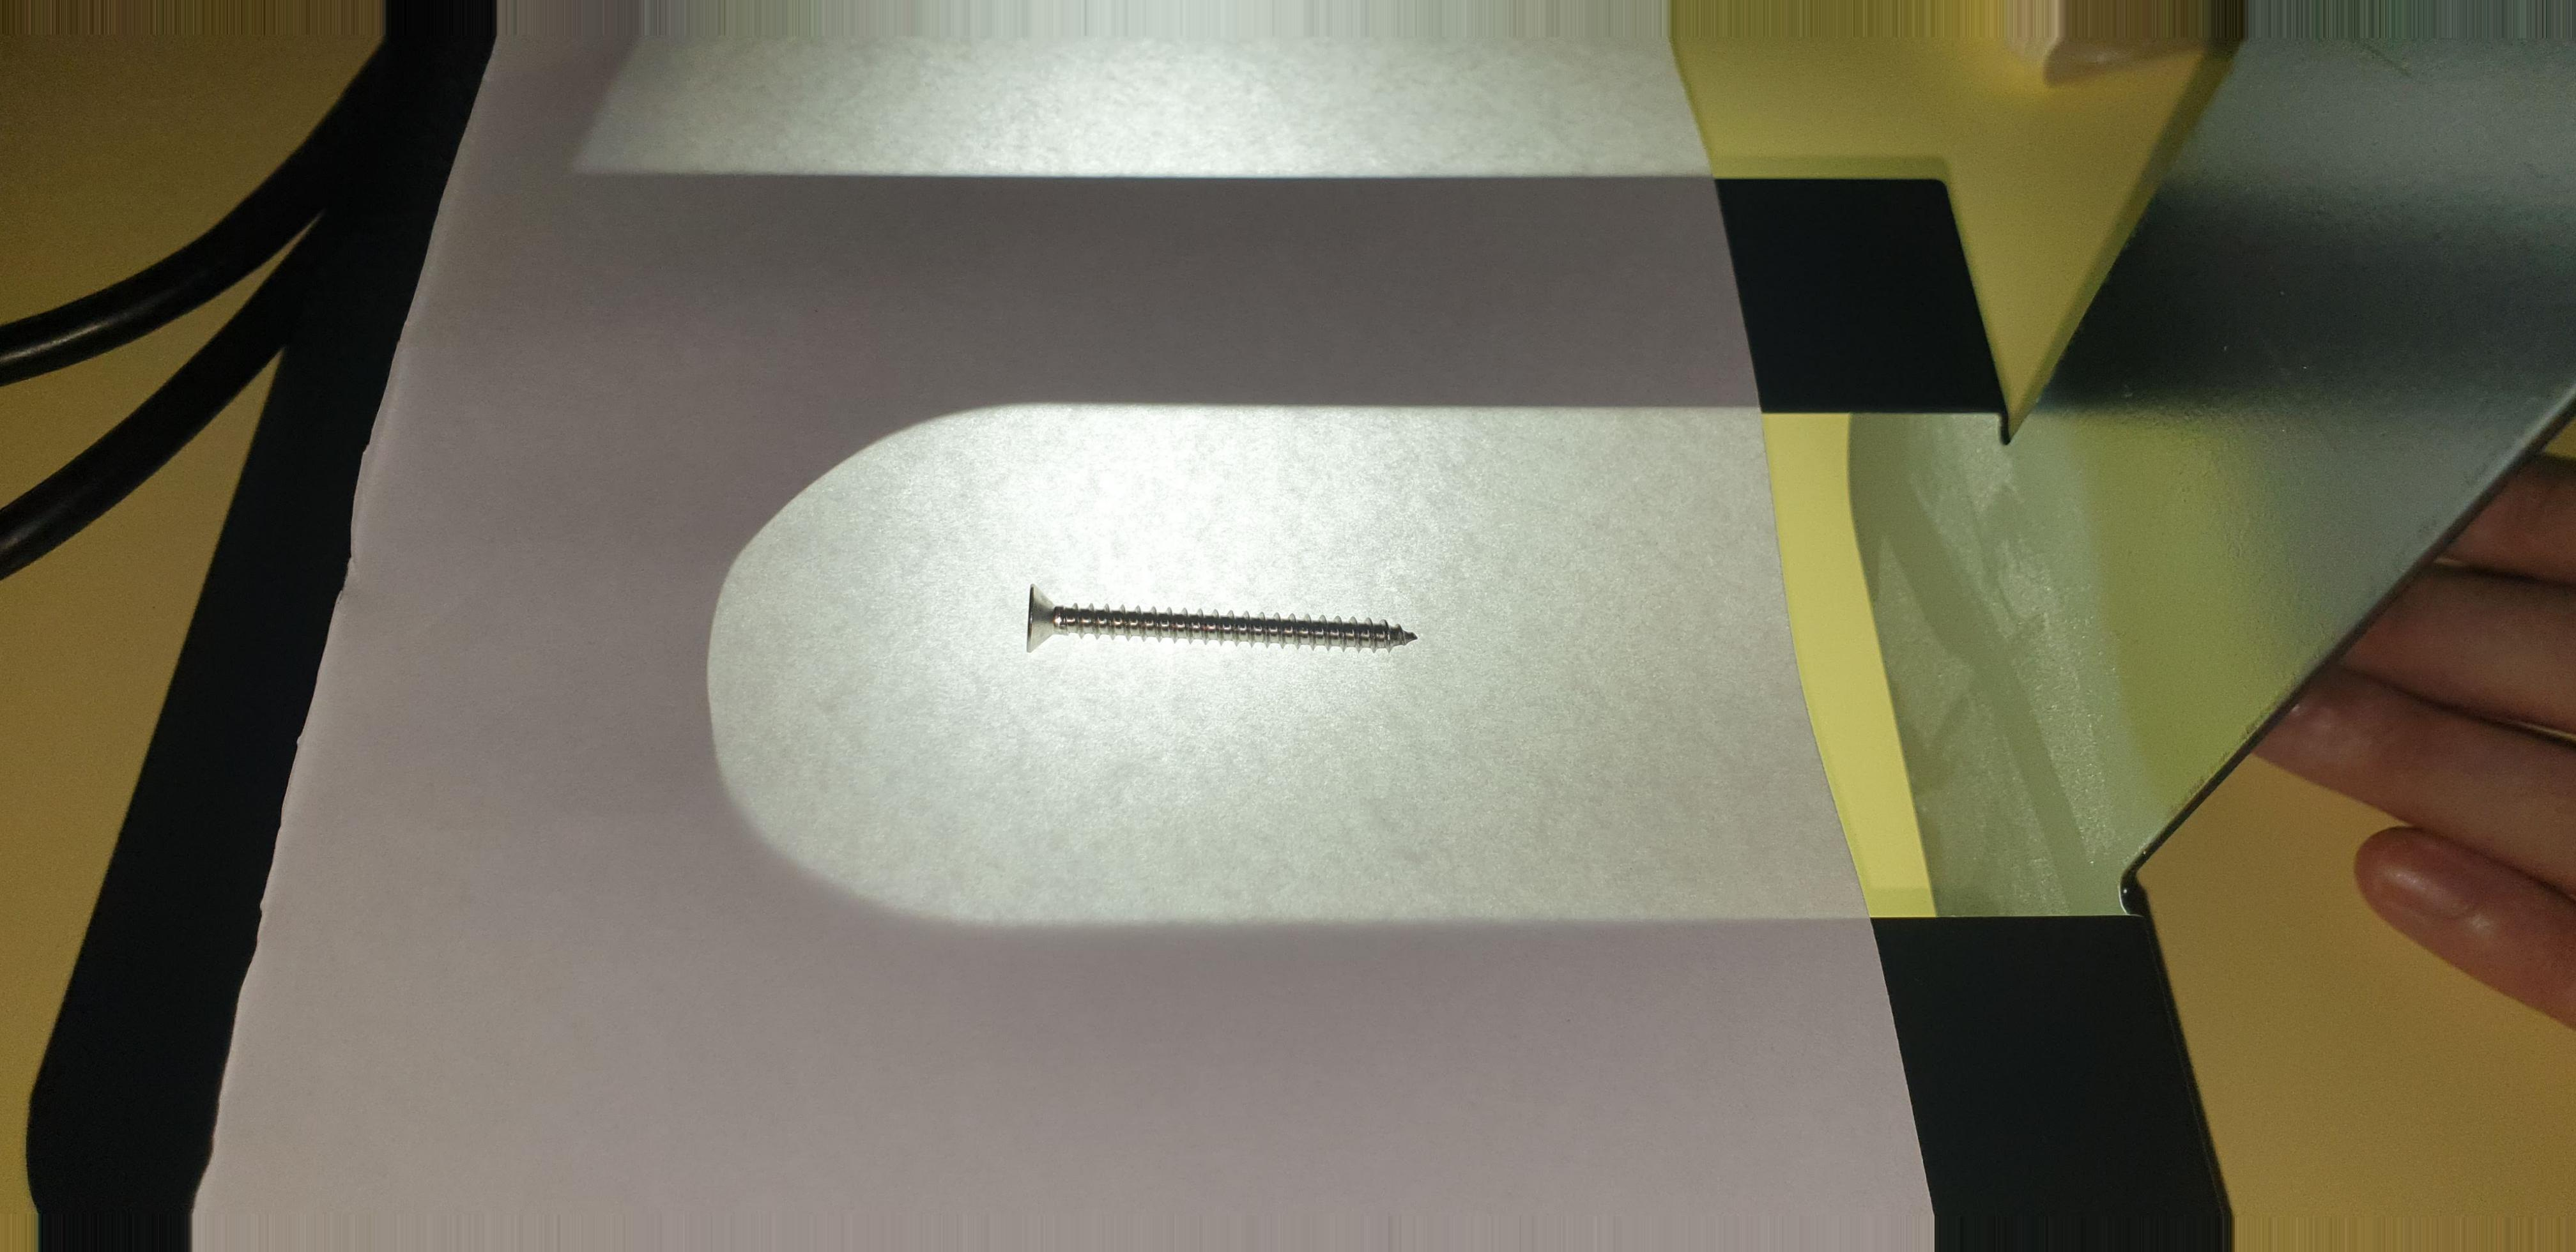fastener: (977, 545, 1470, 695)
